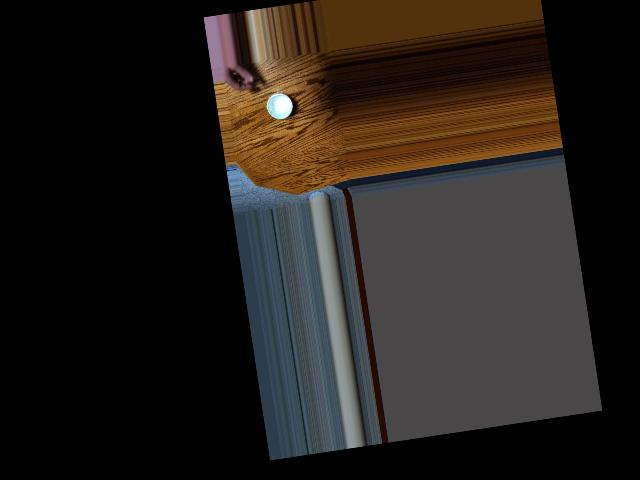cotage: (260, 86, 293, 123)
